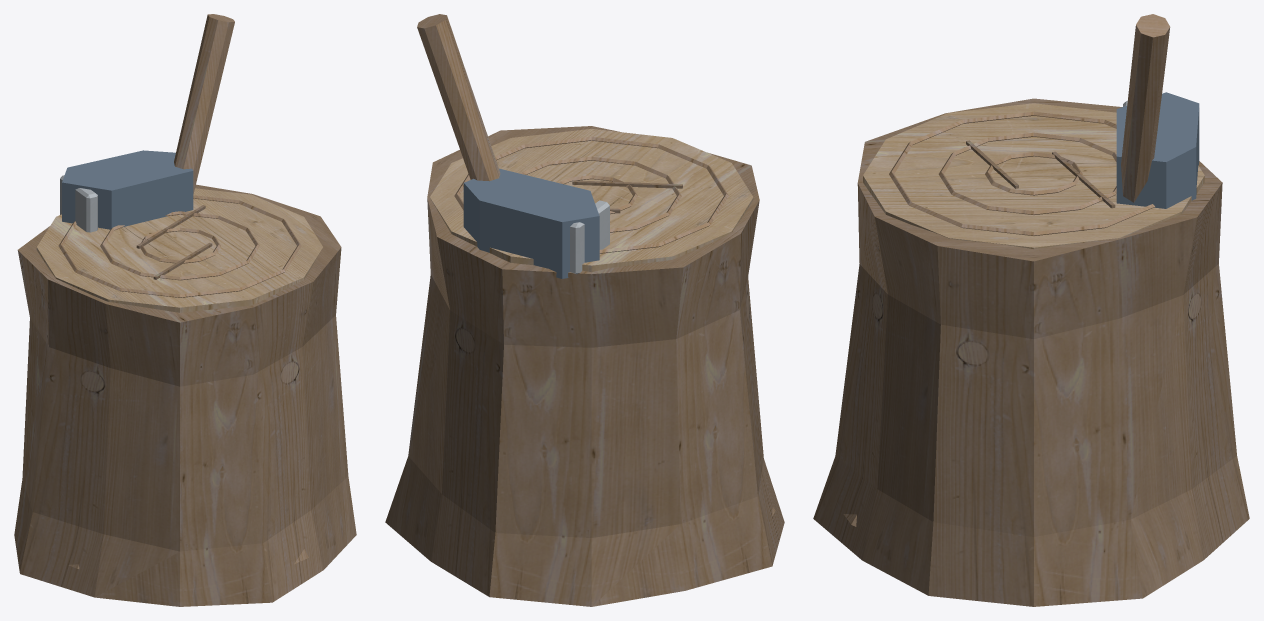
Rendered from chopping_stump.glb.
3 views of the same model, side by side, from view 1: azimuth 30°, elevation 25°; view 2: azimuth 150°, elevation 25°; view 3: azimuth 270°, elevation 25° (orthographic). The views are drawn at different scales.
Visible parts, largest first — view 1: chopping_stump; view 2: chopping_stump; view 3: chopping_stump.
Boxes of the visible parts, x1,y1,x2,y2 form: chopping_stump: (14, 14, 356, 606); chopping_stump: (385, 14, 784, 606); chopping_stump: (813, 14, 1249, 606).
Bounding box in the file's own units: 0.6478 × 0.918 × 0.6591.
5 materials, 4 textured.
